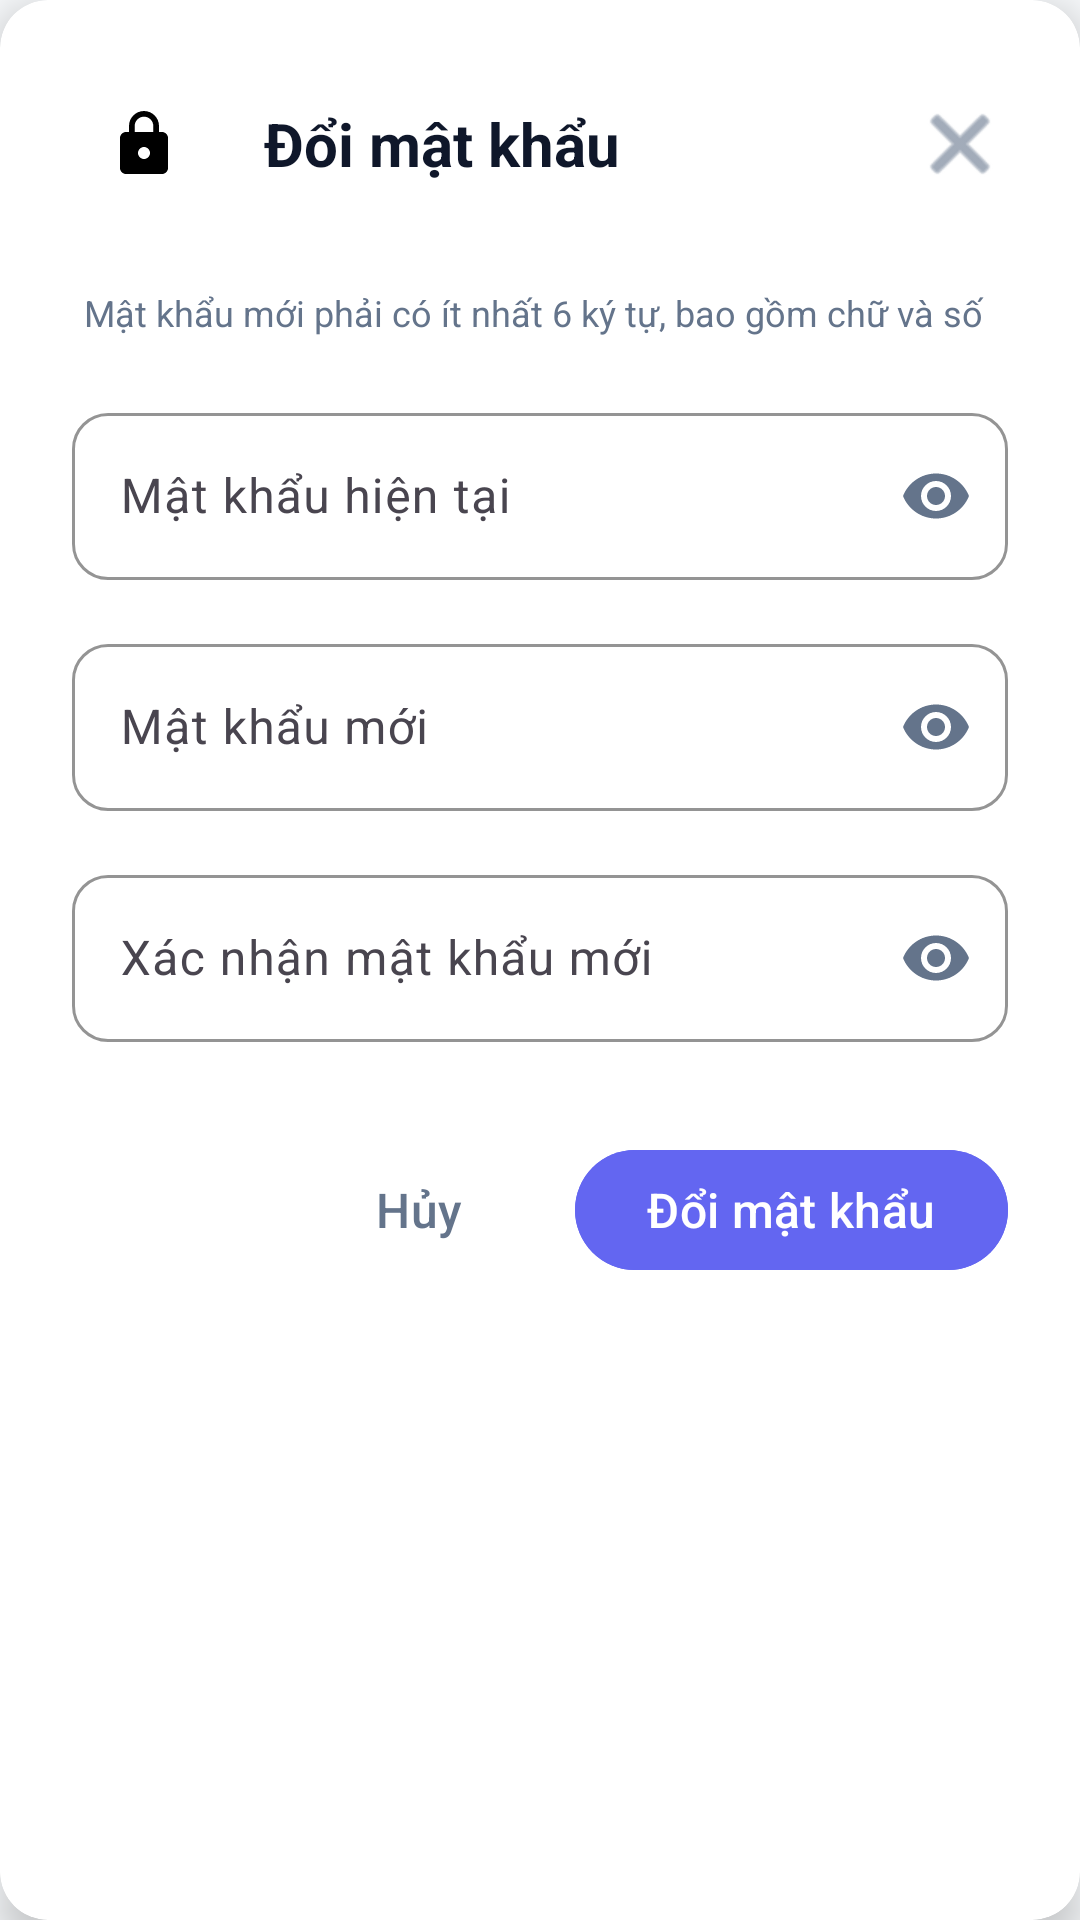

Named icons in this screenshot (1080×1920) and their centers, point (x, y):
Đóng: point (960, 144)
